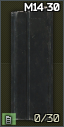M14 7.62x51 30-round magazine: (0, 0, 64, 127)
